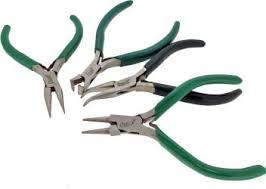pliers: (79, 73, 263, 188), (0, 12, 83, 118)
